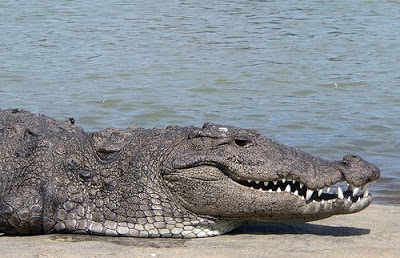Crocodile: (1, 106, 380, 240)
